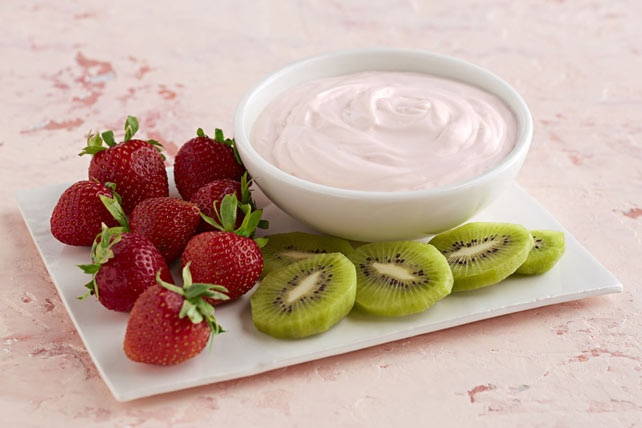background: (49, 76, 567, 245), (250, 45, 521, 128)
